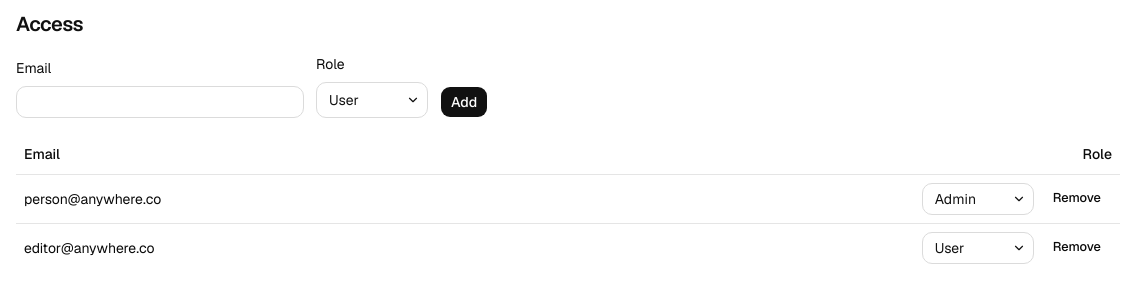
it: access screen › shows Save only after the role changes
The image size is (1137, 281).
Check: the button "Save" is not shown
Select "Admin" in the dropdown named "Role for editor@anywhere.co" at (978, 248), box [922,232,1034,264]
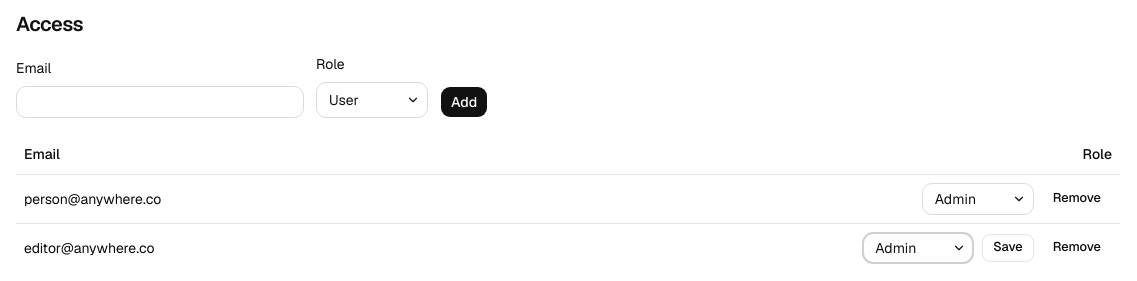
Check: the button "Save" is shown, box [982,234,1034,262]
Select "User" in the dropdown named "Role for editor@anywhere.co" at (918, 248), box [862,232,974,264]
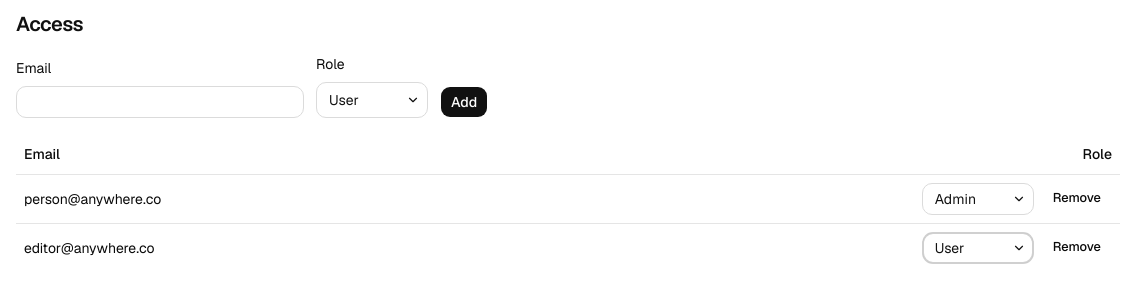
Check: the button "Save" is gone
